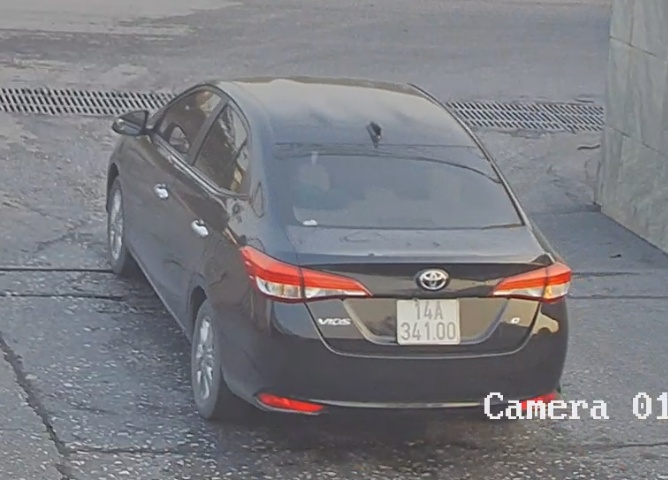vehicle plate: (395, 292, 463, 346)
